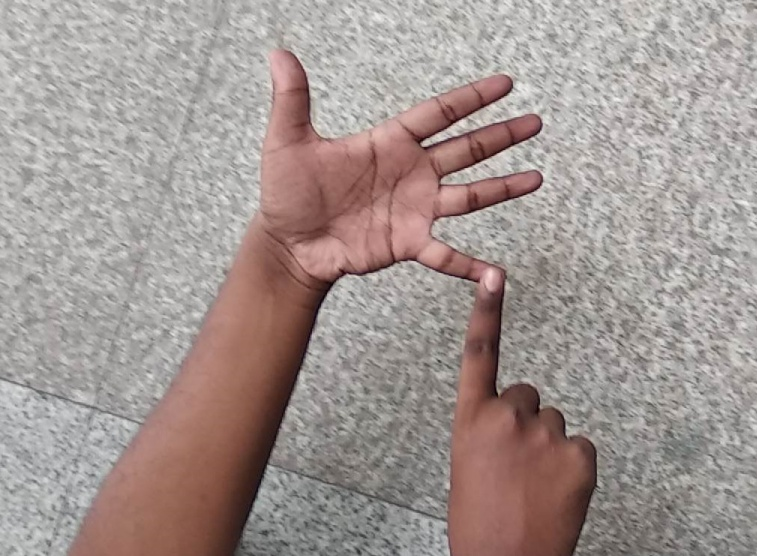i: (267, 41, 547, 419)
